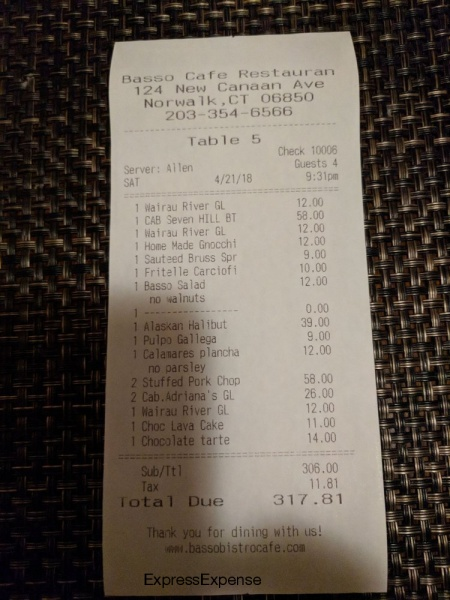Additional details: (140, 520, 329, 562)
Purchase summary: (109, 129, 352, 518)
Receipt: (105, 34, 391, 600)
Shop details: (116, 67, 338, 127)
